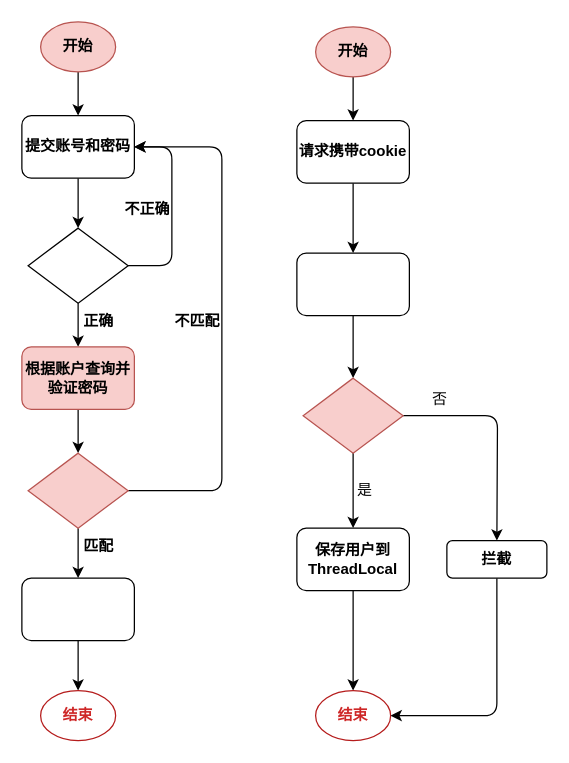
The diagram is 569 pixels wide and 763 high, and some of its shapes have lost their labels. The shapes that lost their labels are listed below. From the top down, each one's centre as x and y in pixels, then its label:
At (x=77, y=265): "校验密码格式".
At (x=352, y=284): "从session获取用户".
At (x=352, y=415): "判断用户是否存在".
At (x=77, y=490): "密码是否正确".
At (x=77, y=609): "保存用户到session".
